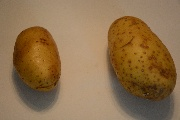potato: (106, 16, 177, 100), (12, 27, 60, 91)
